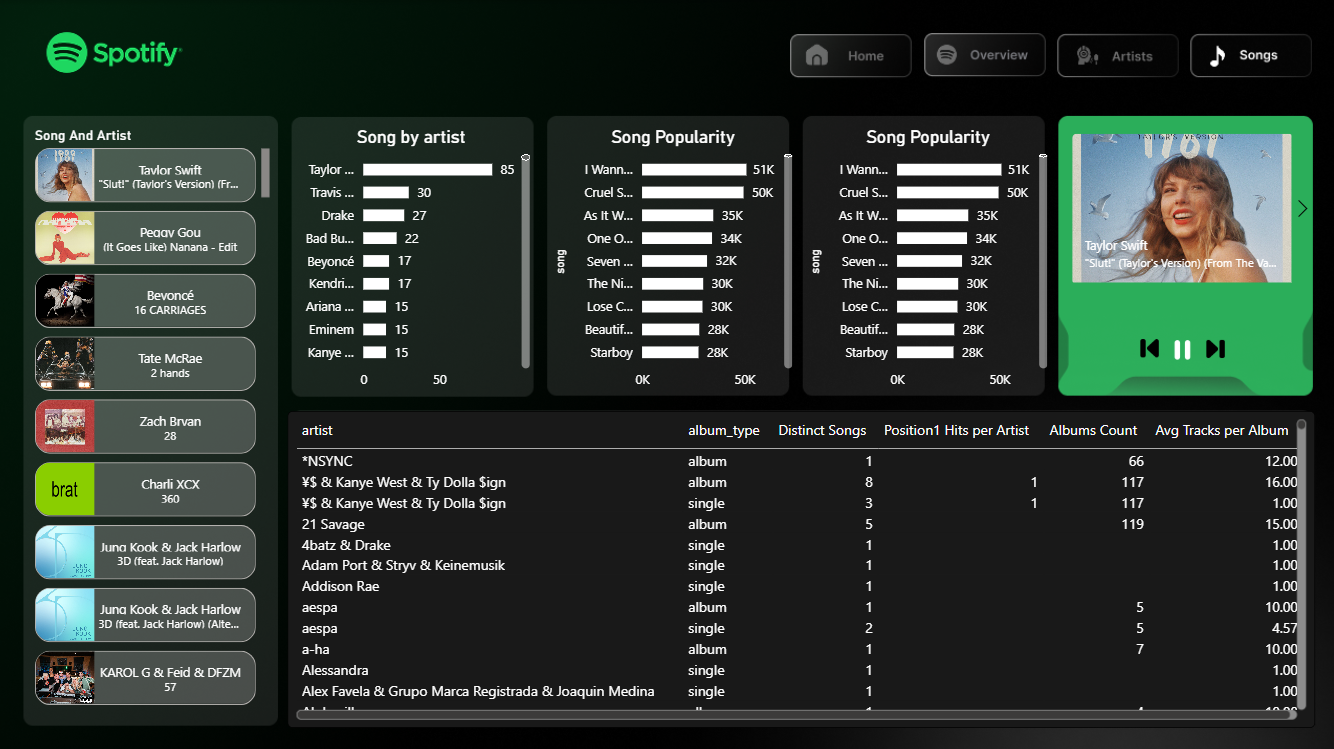

This screenshot's page, from the dashboard's own definition file:
{"tool":"powerbi","page":{"name":"Songs","canvas":[1280,720],"ordinal":3},"visuals":[{"type":"pageNavigator","box":[754.1,28.8,504.2,50],"z":0},{"type":"advancedSlicerVisual","title":"Song And Artist","fields":{"Values":["Top-50-world.song"],"Label":["Min(Top-50-world.album_cover_url)"]},"box":[999.4,121.1,262,154.4],"z":1000},{"type":"image","box":[1114.5,319,33.3,28.8],"z":2000},{"type":"image","box":[1147.8,316,30.3,33.3],"z":3000},{"type":"image","box":[1084.2,316,30.3,31.8],"z":4000},{"type":"clusteredBarChart","title":"Song by artist","fields":{"Category":["Top-50-world.artist"],"Y":["Count(Top-50-world.song)"]},"box":[277.1,119.6,236.2,260.4],"z":5000},{"type":"advancedSlicerVisual","title":"Song And Artist","fields":{"Values":["Top-50-world.song"]},"box":[30.3,121.1,234.7,563.3],"z":6000},{"type":"clusteredBarChart","title":"Song Popularity","fields":{"Category":["Top-50-world.song"],"Y":["Sum(Top-50-world.popularity)"]},"box":[525.4,119.6,237.7,260.4],"z":7000},{"type":"clusteredBarChart","title":"Song Popularity","fields":{"Category":["Top-50-world.song"],"Y":["Sum(Top-50-world.popularity)"]},"box":[769.2,119.6,237.7,260.4],"z":8000},{"type":"tableEx","fields":{"Values":["Top-50-world.artist","Top-50-world.album_type","Measuress.Distinct Songs","Measuress.Position1 Hits per Artist","Measuress.Albums Count","Measuress.Avg Tracks per Album"]},"box":[277.1,392.2,981.2,302.8],"z":9000}]}

Visuals, with their boxes in screenshot pixels (x1, y1, x2, y2), scaled from the page's 1280x720 canvas onto the 1334x749 screenshot:
pageNavigator: box(786, 30, 1311, 82)
"Song And Artist" advancedSlicerVisual: box(1042, 126, 1315, 287)
image: box(1162, 332, 1196, 362)
image: box(1196, 329, 1228, 363)
image: box(1130, 329, 1162, 362)
"Song by artist" clusteredBarChart: box(289, 124, 535, 395)
"Song And Artist" advancedSlicerVisual: box(32, 126, 276, 712)
"Song Popularity" clusteredBarChart: box(548, 124, 795, 395)
"Song Popularity" clusteredBarChart: box(802, 124, 1049, 395)
tableEx - Top-50-world.artist x Top-50-world.album_type: box(289, 408, 1311, 723)
